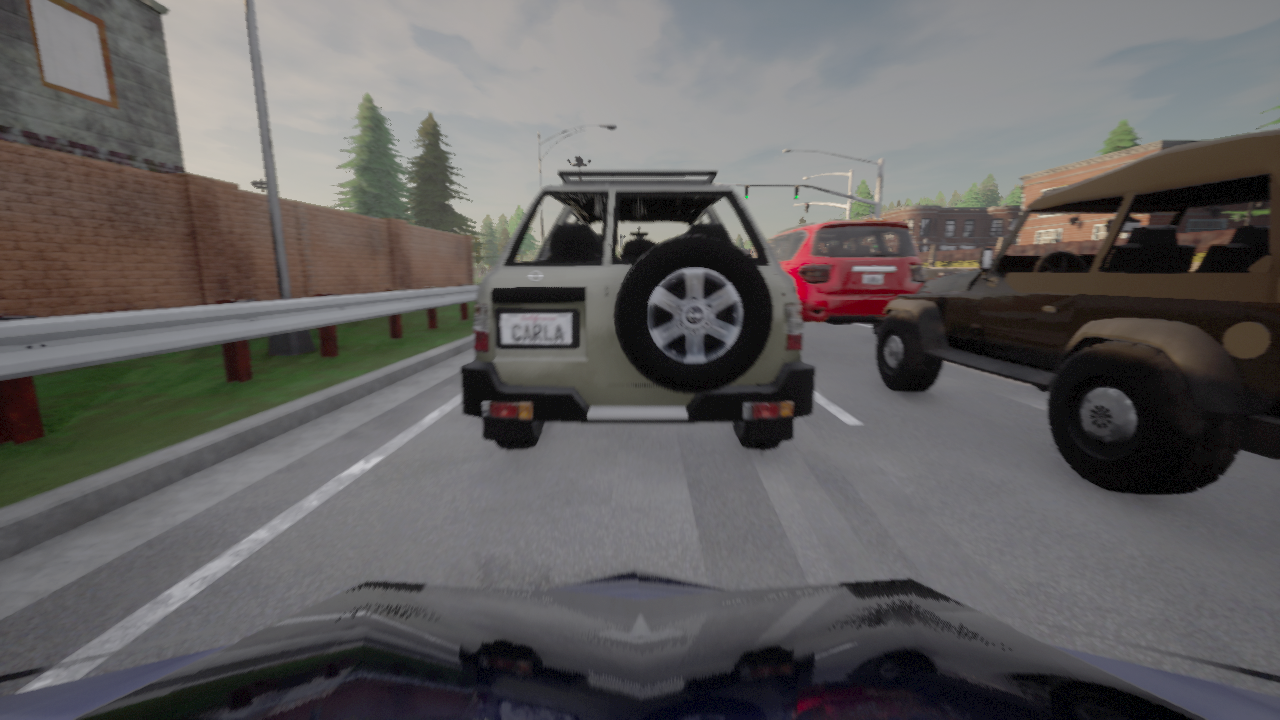cyclist: (0, 569, 1279, 719), (875, 129, 1279, 494), (460, 170, 815, 449), (767, 220, 925, 336), (926, 270, 970, 280)
